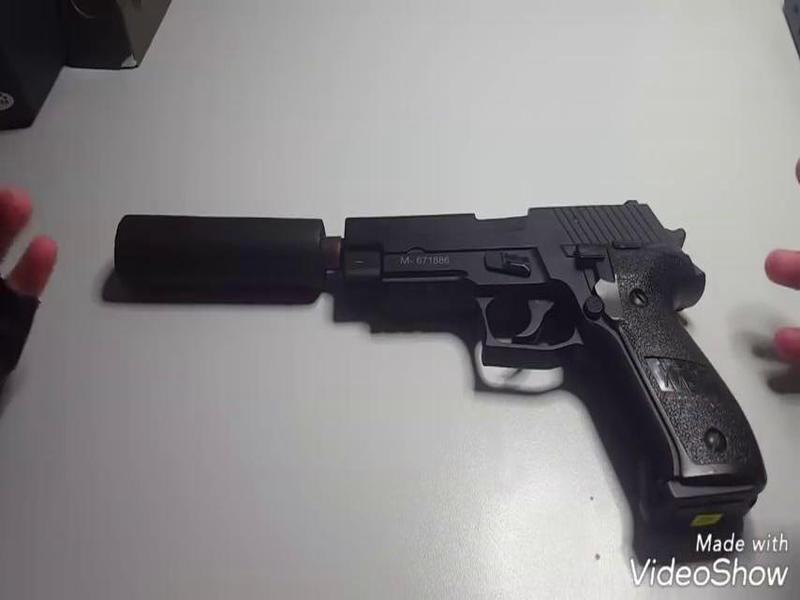Pistola: (95, 164, 769, 512)
